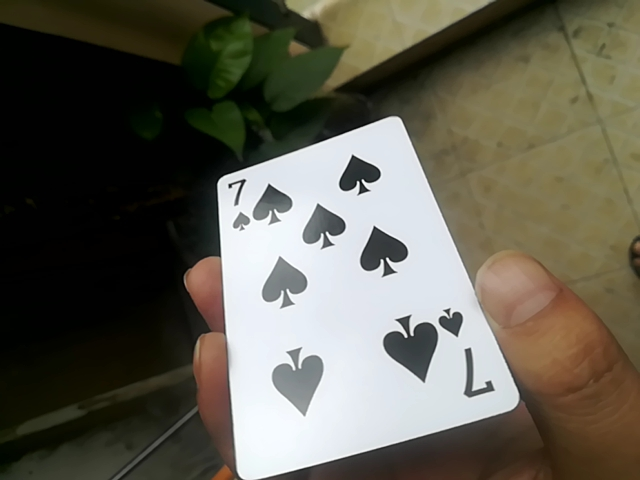ht 7: (219, 111, 520, 479)
